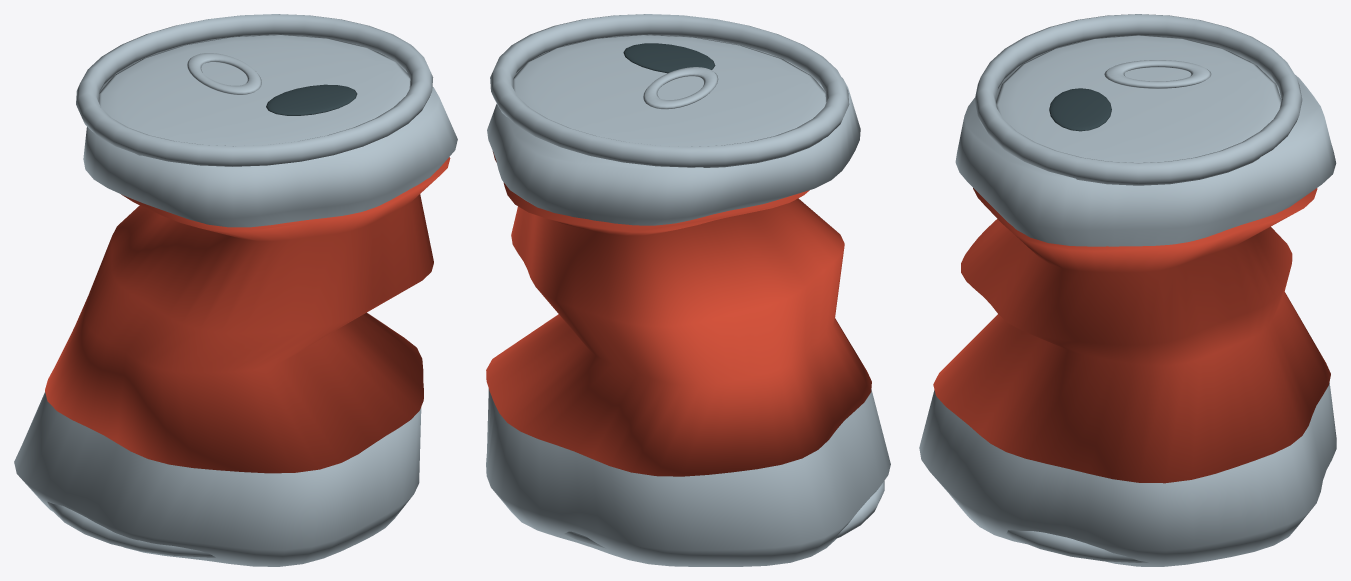
File: Crushed_Can.glb
3 renders of one model, left to right at view 1: azimuth 30°, elevation 25°; view 2: azimuth 150°, elevation 25°; view 3: azimuth 270°, elevation 25°, orthographic.
Parts seen in each view (by area): view 1: Crushed_Can; view 2: Crushed_Can; view 3: Crushed_Can.
Boxes of the visible parts, x1=… form: Crushed_Can: x1=14, y1=14, x2=457, y2=566; Crushed_Can: x1=486, y1=14, x2=890, y2=566; Crushed_Can: x1=919, y1=14, x2=1336, y2=566.
Bounding box in the file's own units: 0.1767 × 0.1912 × 0.1728.
